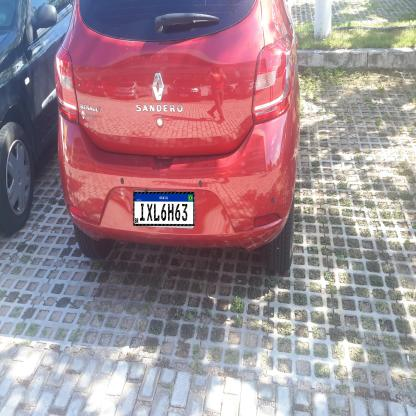PlacaM: (134, 192, 194, 226)
